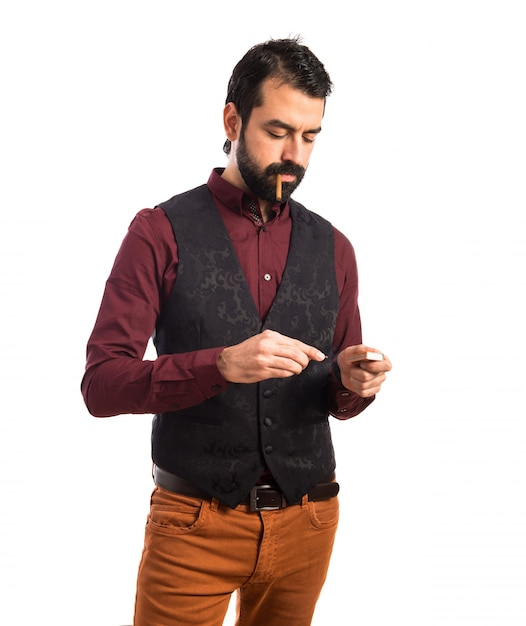cigarette: (275, 173, 285, 203)
